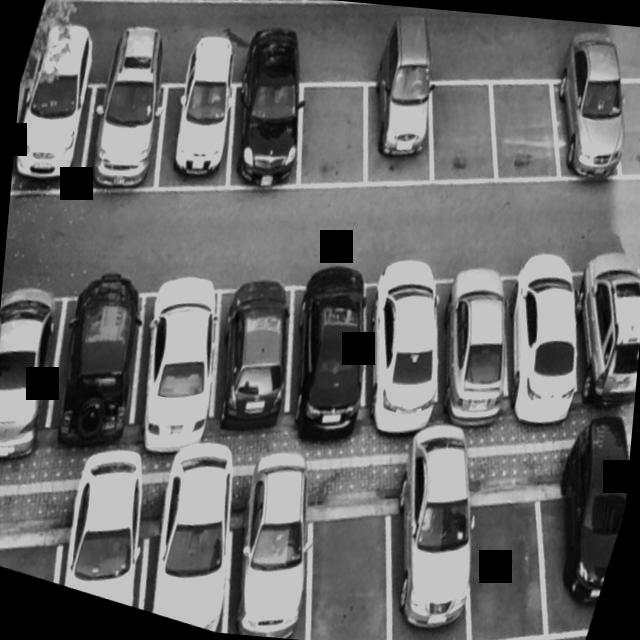car: (320, 228, 469, 456), (336, 458, 517, 640), (172, 252, 316, 470), (464, 228, 602, 452), (101, 255, 240, 474), (34, 251, 166, 474), (255, 249, 390, 460), (396, 243, 538, 438), (195, 479, 344, 640), (60, 34, 194, 210), (516, 449, 629, 640), (9, 25, 120, 217), (130, 482, 260, 634), (541, 226, 640, 417), (341, 40, 462, 196), (529, 36, 640, 201), (208, 49, 326, 201), (143, 50, 251, 200), (0, 273, 78, 479), (43, 493, 176, 612), (606, 227, 640, 428), (290, 0, 372, 19)
free: (434, 459, 572, 640), (275, 485, 423, 640), (468, 49, 587, 200), (404, 50, 522, 202), (281, 52, 398, 204), (597, 57, 640, 190), (101, 0, 194, 14), (221, 0, 318, 12), (166, 0, 256, 12)
